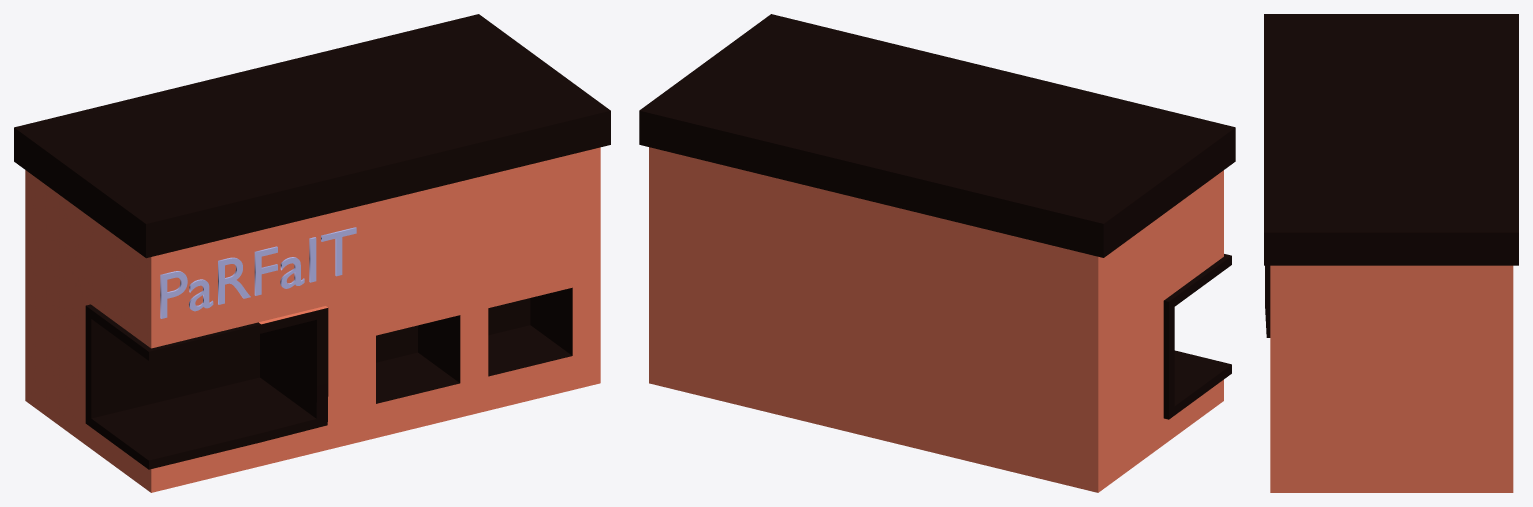
File: ParfaitMaker.fbx
3 views of the same model, side by side, from view 1: azimuth 30°, elevation 25°; view 2: azimuth 150°, elevation 25°; view 3: azimuth 270°, elevation 25° (orthographic). The views are drawn at different scales.
Visible parts, largest first — view 1: Cube; view 2: Cube; view 3: Cube.
Part boxes in pixels (left/top/right/bottom): Cube: left=14, top=14, right=610, bottom=492; Cube: left=639, top=14, right=1235, bottom=492; Cube: left=1264, top=14, right=1518, bottom=492.
Size of the model in its own units: 81.32 by 165 by 92.83.
